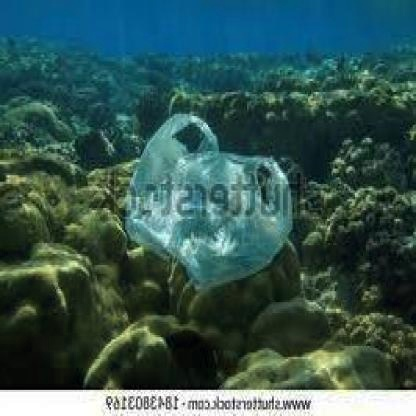pbag: (125, 112, 293, 282)
